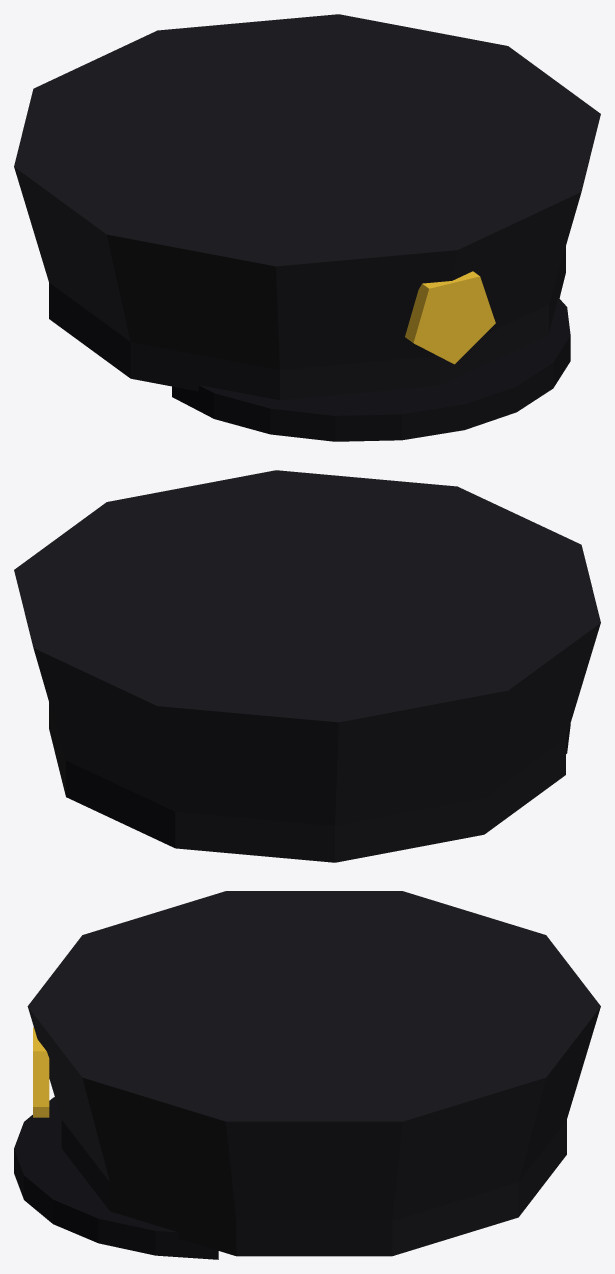
The model's file is party_trait_cap_black.glb.
The picture shows the model from 3 angles, top to bottom: view 1: azimuth 30°, elevation 25°; view 2: azimuth 150°, elevation 25°; view 3: azimuth 270°, elevation 25°; orthographic projection. The views are drawn at different scales.
Parts seen in each view (by area): view 1: cap_trait_cap_black, cap_trait_visor, cap_trait_cap_band, cap_trait_cap_star; view 2: cap_trait_cap_black, cap_trait_cap_band; view 3: cap_trait_cap_black, cap_trait_cap_band, cap_trait_visor, cap_trait_cap_star.
Part boxes in pixels (left/top/right/bottom): cap_trait_cap_black: left=14, top=14, right=600, bottom=369; cap_trait_visor: left=172, top=297, right=570, bottom=441; cap_trait_cap_band: left=49, top=246, right=565, bottom=400; cap_trait_cap_star: left=405, top=271, right=495, bottom=364; cap_trait_cap_black: left=14, top=470, right=600, bottom=825; cap_trait_cap_band: left=49, top=702, right=565, bottom=862; cap_trait_cap_black: left=27, top=891, right=600, bottom=1221; cap_trait_cap_band: left=61, top=1120, right=566, bottom=1256; cap_trait_visor: left=14, top=1097, right=218, bottom=1259; cap_trait_cap_star: left=33, top=1027, right=49, bottom=1117.
Size of the model in its own units: 0.3994 by 0.135 by 0.43.
